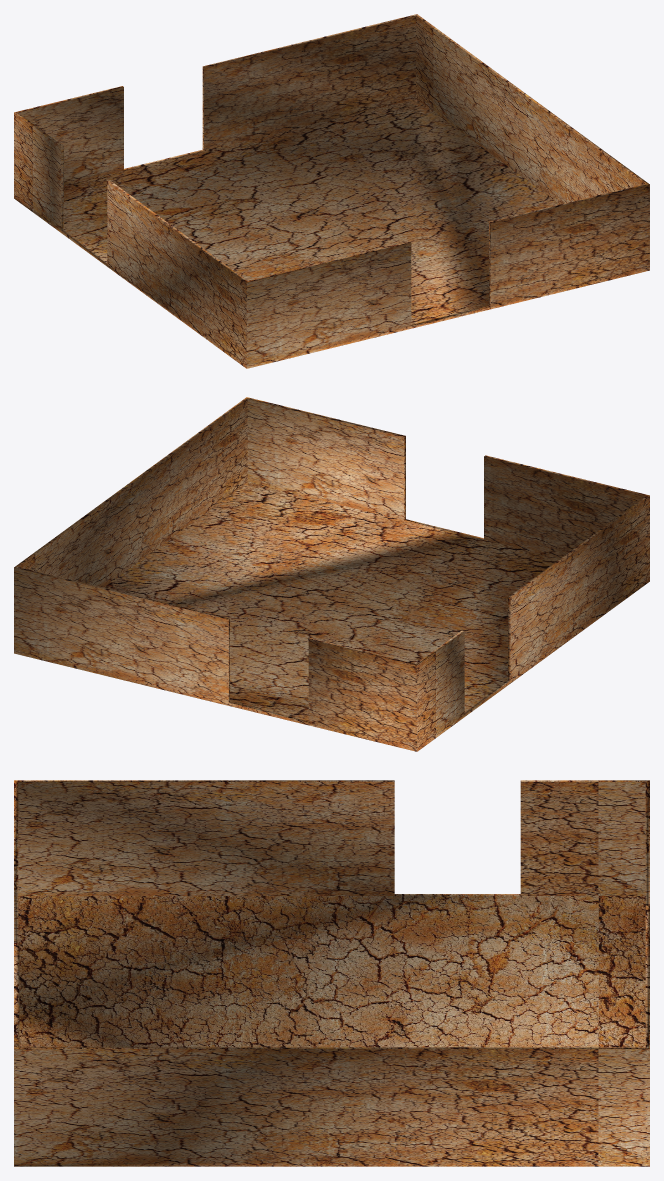
Rendered from Nodo7.obj.
The picture shows the model from 3 angles, top to bottom: view 1: azimuth 30°, elevation 25°; view 2: azimuth 150°, elevation 25°; view 3: azimuth 270°, elevation 25°; orthographic projection. The views are drawn at different scales.
Parts seen in each view (by area): view 1: Nodo036; view 2: Nodo036; view 3: Nodo036.
Part boxes in pixels (x1=…): Nodo036: x1=14, y1=14, x2=649, y2=368; Nodo036: x1=14, y1=397, x2=649, y2=751; Nodo036: x1=14, y1=780, x2=649, y2=1166.
Bounding box in the file's own units: 598 × 122 × 598.
